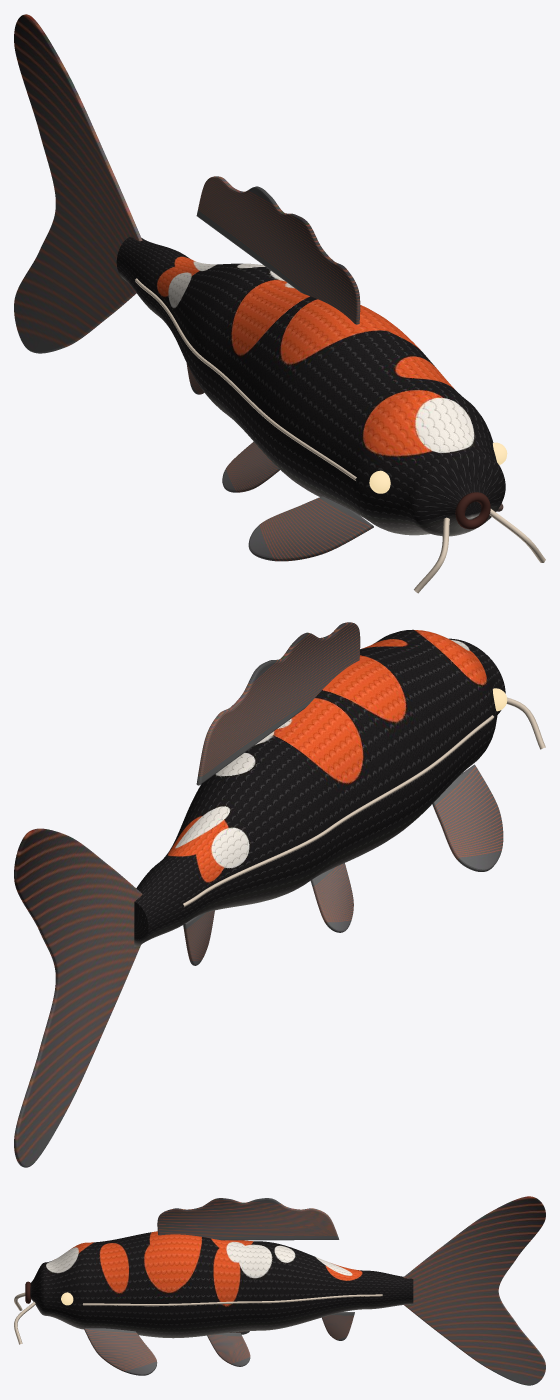
File: koi_showa.glb
3 views of the same model, one above another, from view 1: azimuth 30°, elevation 25°; view 2: azimuth 150°, elevation 25°; view 3: azimuth 270°, elevation 25° (orthographic). The views are drawn at different scales.
Parts seen in each view (by area): view 1: skin, fin, ridge, mouth; view 2: skin, fin, ridge; view 3: skin, fin, ridge.
Boxes of the visible parts, box(x1,y1,x2,y2) form: skin: box(116, 236, 505, 536); fin: box(14, 14, 503, 561); ridge: box(135, 278, 545, 593); mouth: box(455, 492, 490, 529); skin: box(134, 629, 505, 946); fin: box(14, 622, 503, 1167); ridge: box(183, 697, 545, 907); skin: box(30, 1231, 413, 1338); fin: box(84, 1196, 545, 1385); ridge: box(14, 1292, 382, 1344).
Size of the model in its own units: 1.33 by 1.78 by 4.54.
Materials: 5 (2 with a texture image).
